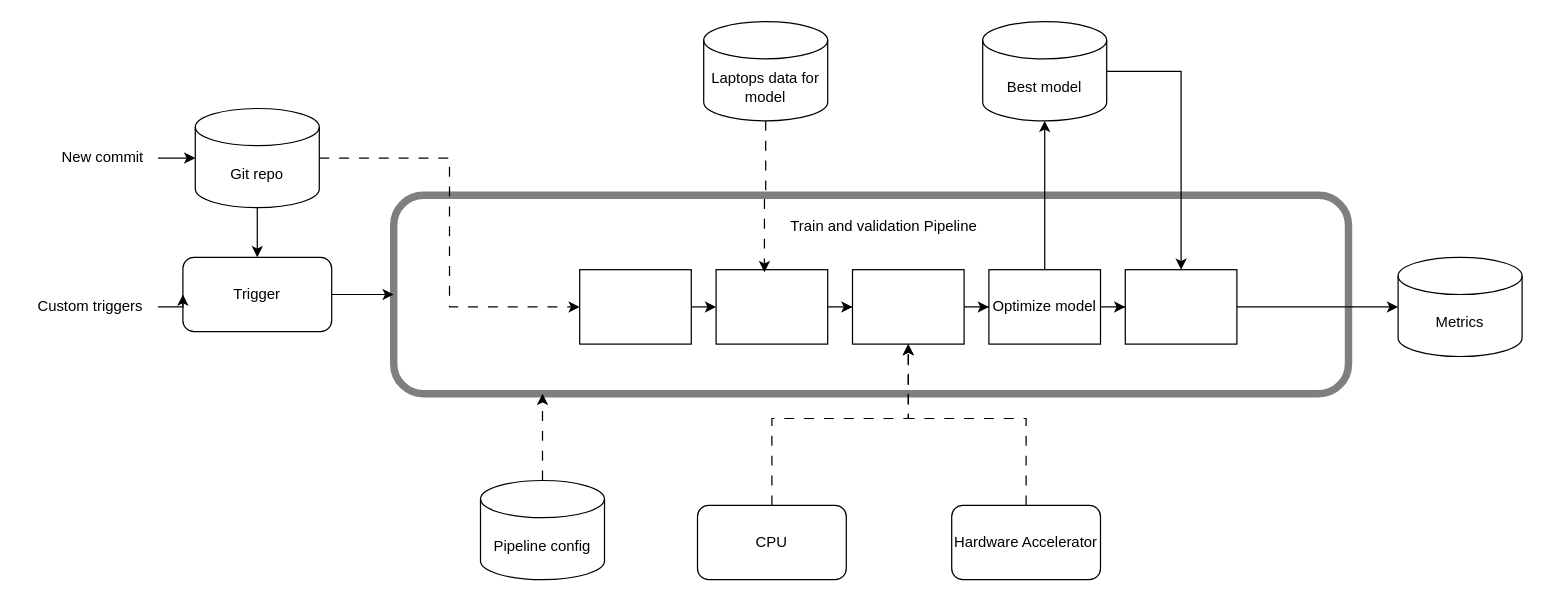
This 1544x601 diagram has some shape labels left out. The shapes that lost their labels are listed below. From the top down, each one's centre as x and y in pixels, then its label:
(634,306): Clone code
(771,306): Load Data
(907,306): Train machine learning model
(1180,306): Evaluation
